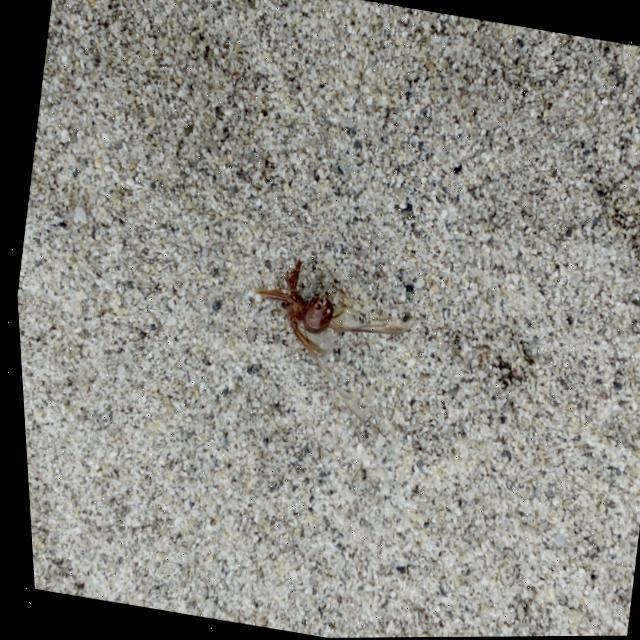Dead-Male-Alate: (230, 251, 424, 430)
